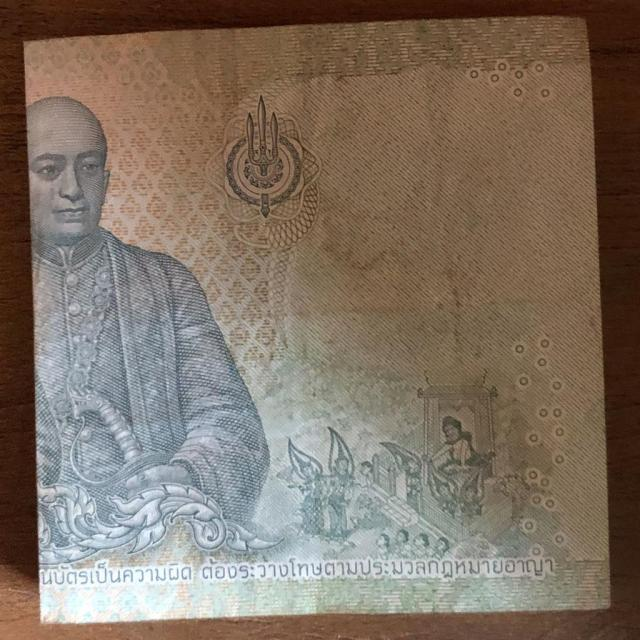THAI20: (25, 17, 609, 622)
